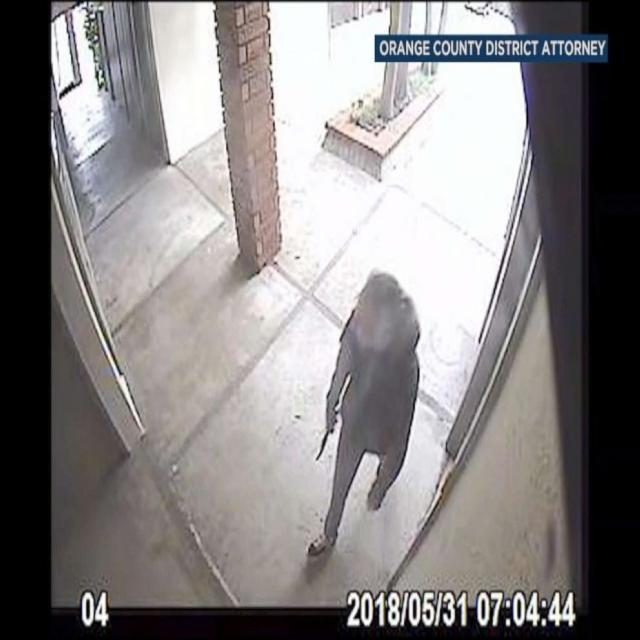Knife_Handle: (315, 404, 340, 462)
